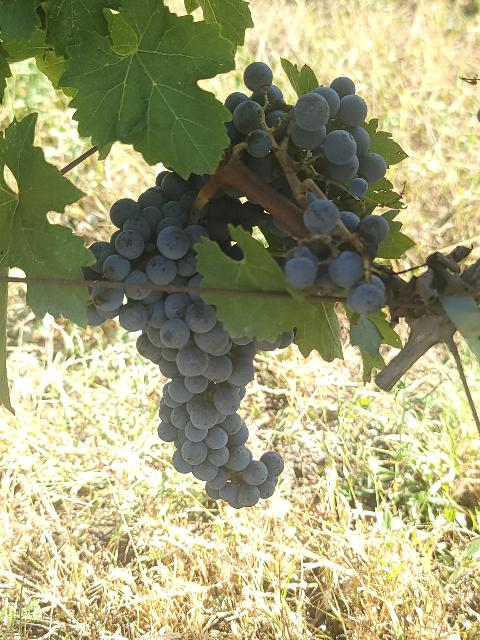grapes: (84, 171, 294, 509), (225, 62, 389, 302)
